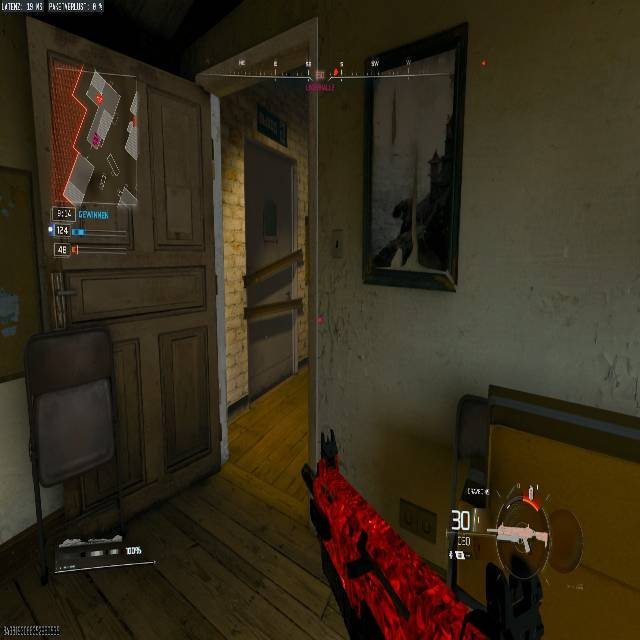player: (373, 139, 459, 285)
